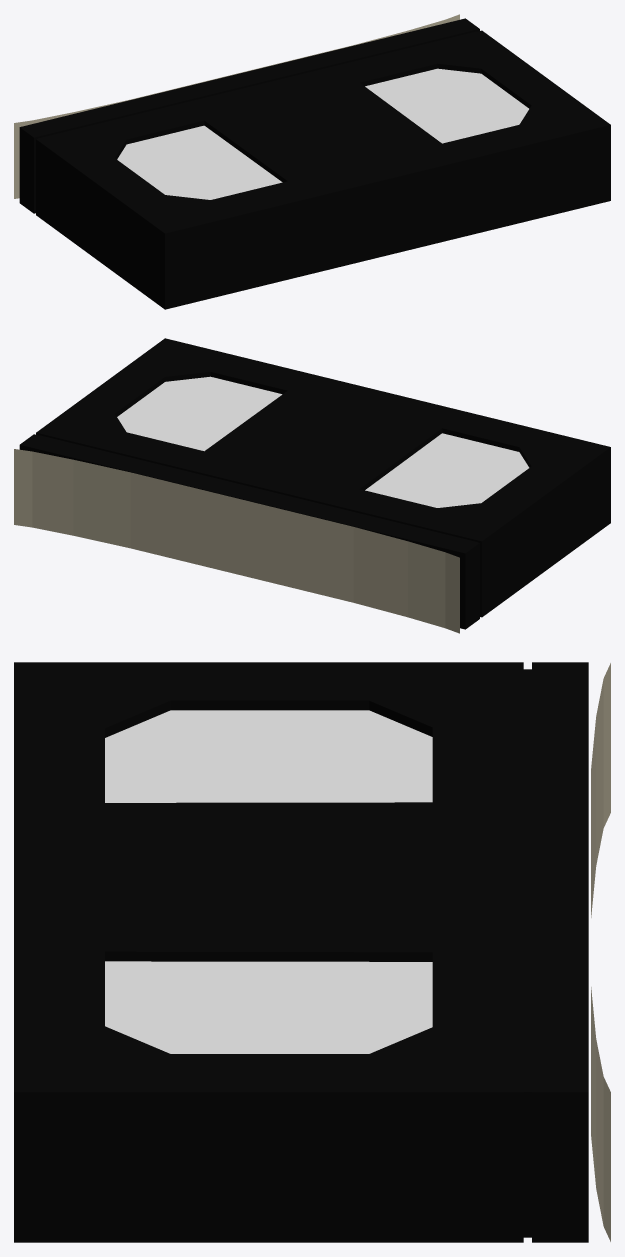
The model's file is The Block Buster.fbx.
The picture shows the model from 3 angles, top to bottom: view 1: azimuth 30°, elevation 25°; view 2: azimuth 150°, elevation 25°; view 3: azimuth 270°, elevation 25°; orthographic projection. The views are drawn at different scales.
Parts seen in each view (by area): view 1: Cube, Cube.001; view 2: Cube, Cube.001; view 3: Cube, Cube.001.
Boxes of the visible parts, x1,y1,x2,y2 form: Cube: [19, 18, 610, 309]; Cube.001: [14, 14, 459, 198]; Cube: [19, 338, 610, 629]; Cube.001: [14, 449, 459, 633]; Cube: [14, 662, 588, 1242]; Cube.001: [591, 663, 610, 1241].
Size of the model in its own units: 1200 by 196 by 704.
